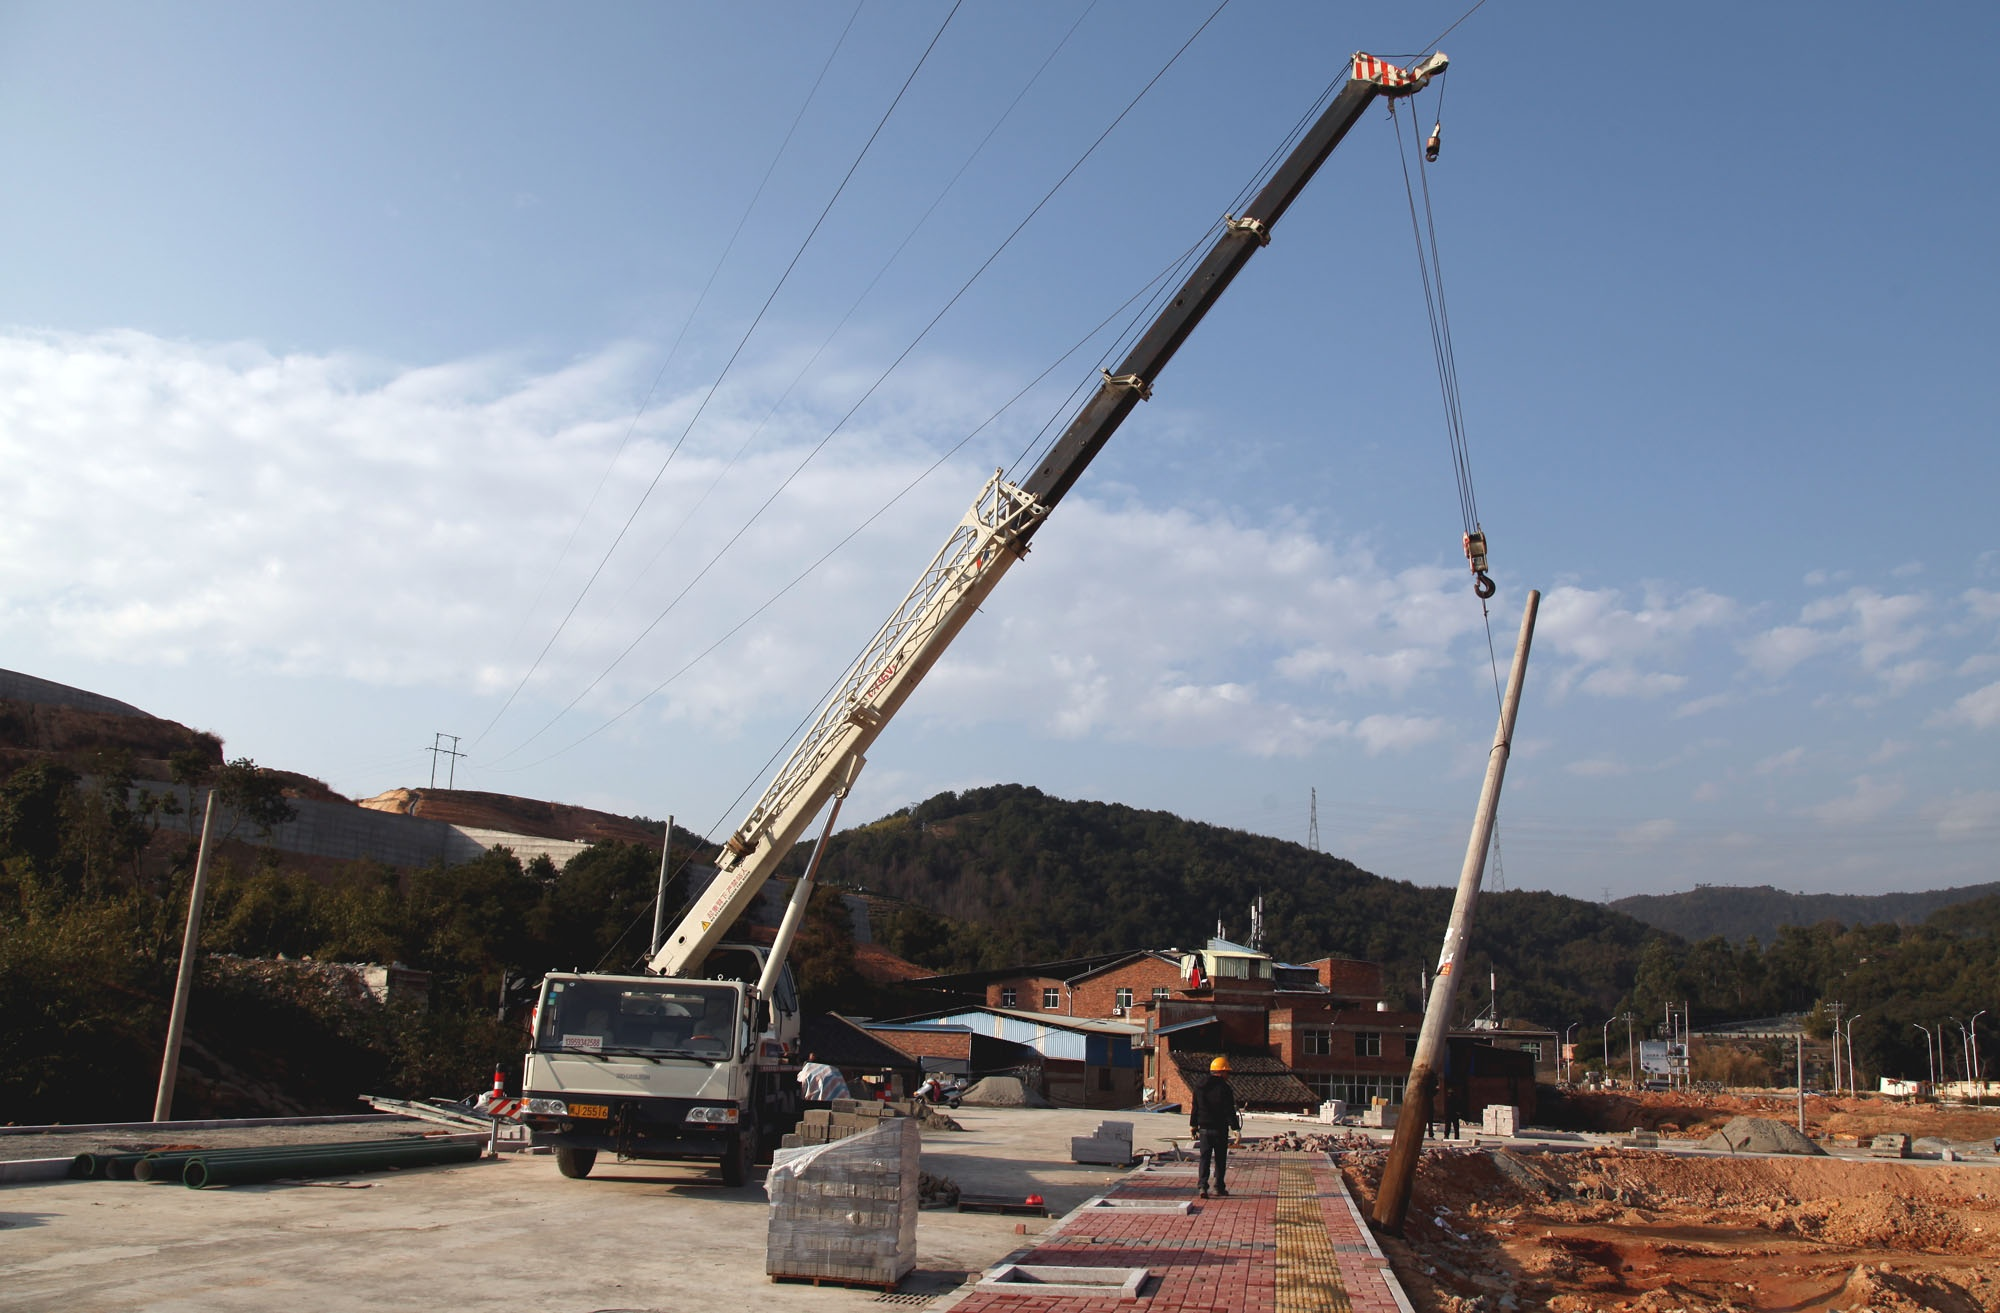yellow: (1207, 1057, 1231, 1080)
